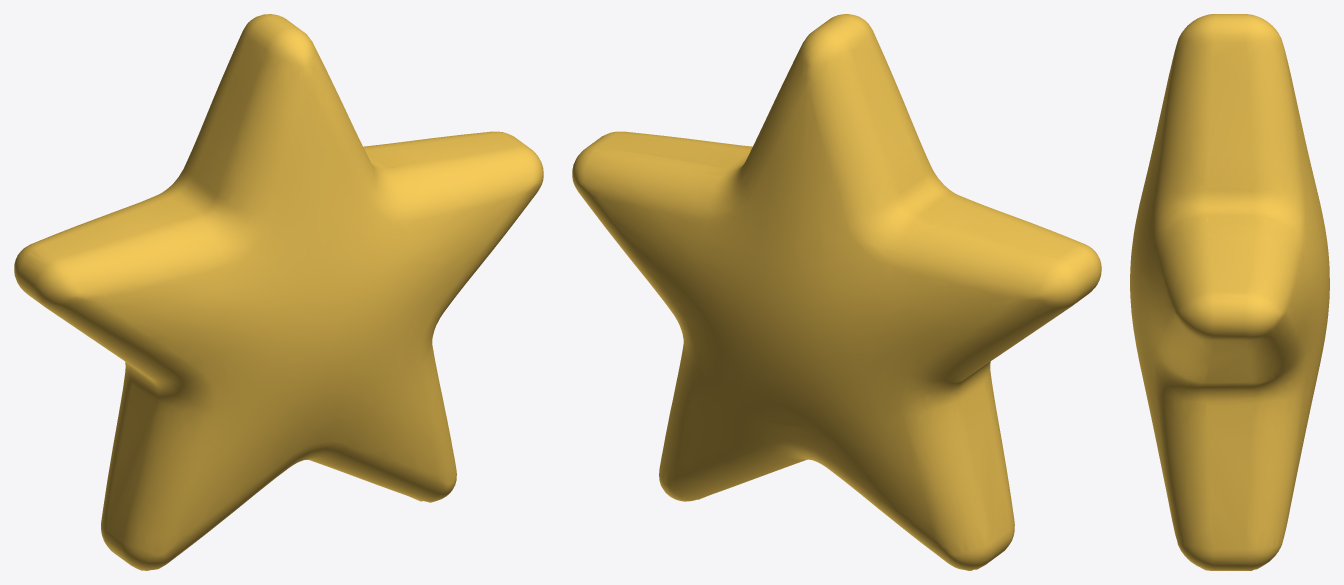
Rendered from medal-M6.glb.
The picture shows the model from 3 angles, left to right: view 1: azimuth 30°, elevation 25°; view 2: azimuth 150°, elevation 25°; view 3: azimuth 270°, elevation 25°; orthographic projection. The views are drawn at different scales.
Parts seen in each view (by area): view 1: star-pickup_body; view 2: star-pickup_body; view 3: star-pickup_body.
Part boxes in pixels (x1,y1,x2,y2): star-pickup_body: (14, 14, 543, 570); star-pickup_body: (572, 14, 1101, 570); star-pickup_body: (1130, 14, 1329, 570).
Size of the model in its own units: 0.5028 by 0.4782 by 0.1793.
Materials: 1 (1 with a texture image).
